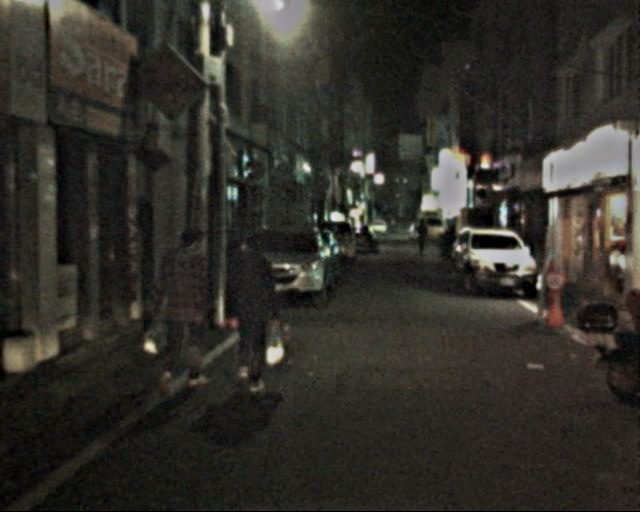person: (148, 226, 224, 392), (217, 232, 285, 400), (415, 221, 429, 255)
